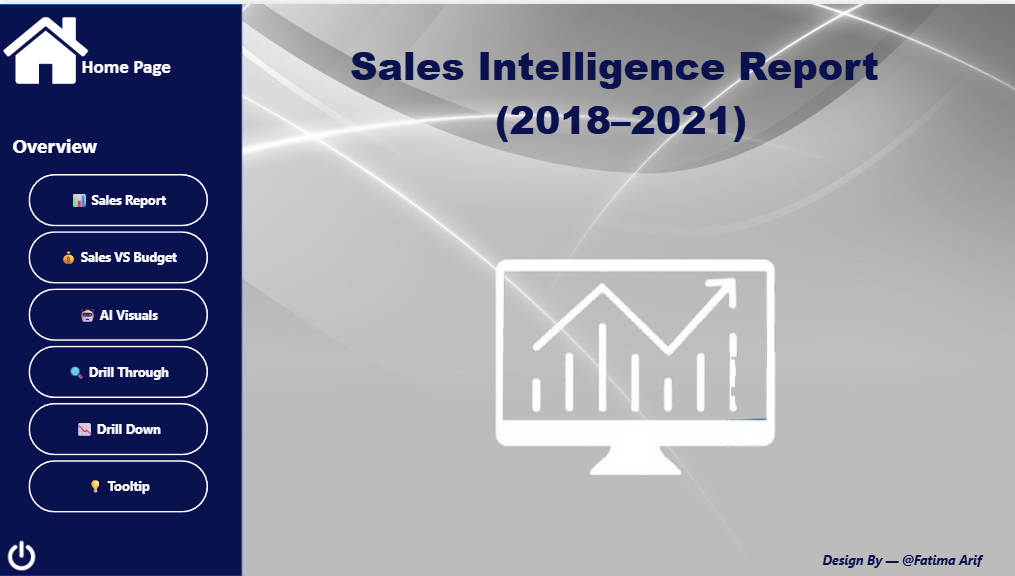

The page's visual inventory and layout, read from the dashboard file:
{"tool":"powerbi","page":{"name":"Home Page","canvas":[1280,720],"ordinal":0},"visuals":[{"type":"image","box":[372.6,203.6,859.5,506],"z":0},{"type":"shape","box":[0,0,307.1,720],"z":1000},{"type":"textbox","box":[364.3,36.9,822.6,166.7],"z":2000},{"type":"pageNavigator","box":[28.6,203.6,246.4,446.4],"z":3000},{"type":"textbox","box":[1032.1,683.3,247.6,33.3],"z":4000},{"type":"image","box":[0,0,120,116.5],"z":5000},{"type":"textbox","box":[100.1,58.5,185.6,84.4],"z":6000},{"type":"image","box":[4.8,669,47.6,47.6],"z":7000},{"type":"textbox","box":[13.1,157.1,131,46.4],"z":8000}]}

Visuals, with their boxes in screenshot pixels (x1, y1, x2, y2), scaled from the page's 1280x720 canvas onto the 1015x576 screenshot:
image: (x1=295, y1=163, x2=977, y2=568)
shape: (x1=0, y1=0, x2=244, y2=575)
textbox: (x1=289, y1=30, x2=941, y2=163)
pageNavigator: (x1=23, y1=163, x2=218, y2=520)
textbox: (x1=818, y1=547, x2=1014, y2=573)
image: (x1=0, y1=0, x2=95, y2=93)
textbox: (x1=79, y1=47, x2=227, y2=114)
image: (x1=4, y1=535, x2=42, y2=573)
textbox: (x1=10, y1=126, x2=114, y2=163)
